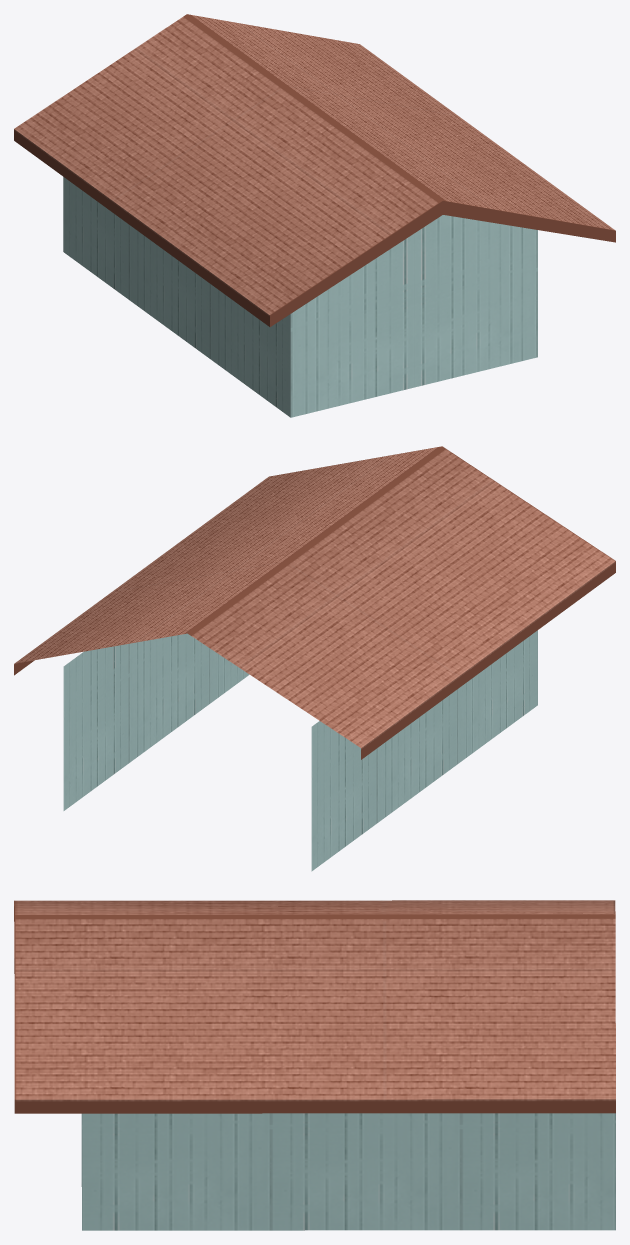
File: HausKerstin3.FBX
3 views of the same model, one above another, from view 1: azimuth 30°, elevation 25°; view 2: azimuth 150°, elevation 25°; view 3: azimuth 270°, elevation 25° (orthographic). The views are drawn at different scales.
Visible parts, largest first — view 1: Object001; view 2: Object001; view 3: Object001.
Part boxes in pixels (box(x1,y1,x2,y2)): Object001: box(14, 14, 615, 417); Object001: box(14, 446, 615, 871); Object001: box(14, 900, 615, 1230).
Bounding box in the file's own units: 28.06 × 16.05 × 35.79.
Materials: 1 (1 with a texture image).
